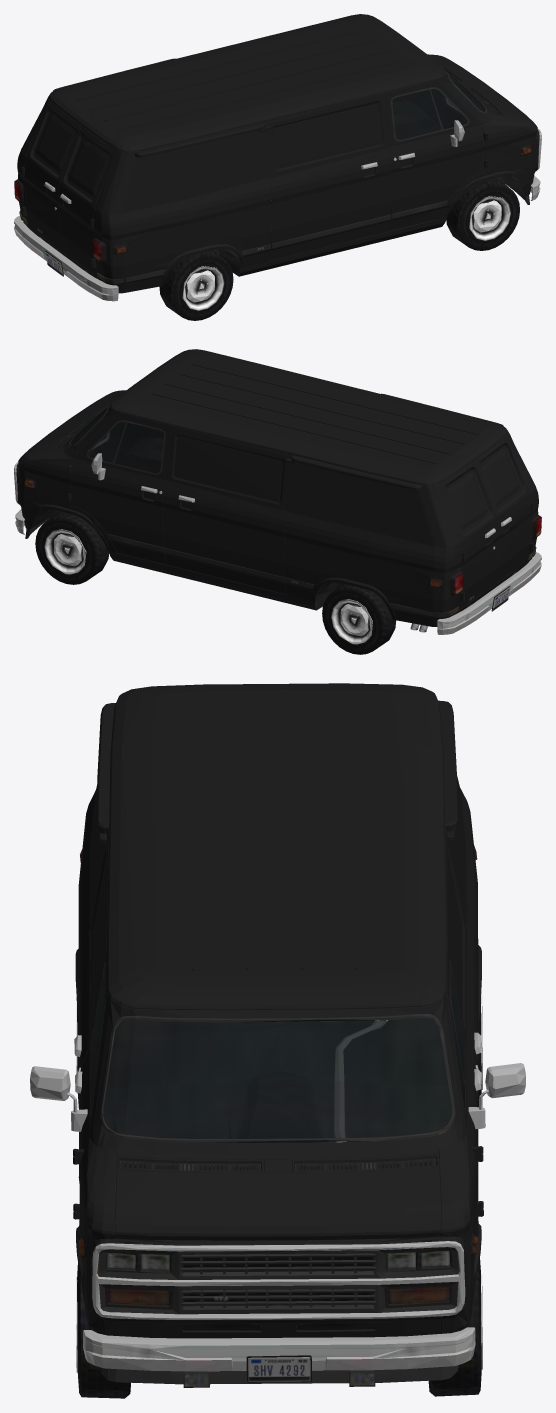
The model's file is van.glb.
3 views of the same model, one above another, from view 1: azimuth 30°, elevation 25°; view 2: azimuth 150°, elevation 25°; view 3: azimuth 270°, elevation 25° (orthographic). The views are drawn at different scales.
Visible parts, largest first — view 1: Shvan92_Body_Shvan92_bodymat_0, Shvan92_Bottom_UCB_BOTTOM_0, Shvan92_WheelStock_FR_RB1c_Tire_1k_0, Shvan92_WheelStock_RL_RB1c_Tire_1k_0, Shvan92_Bumper_rear_UCB_BOTTOM_0, Shvan92_Glass_Passanger_UCB_Lights_and_Glass_Transperent_0, Shvan92_Hood_Shvan92_bodymat_0, Shvan92_Body_glass_UCB_Lights_and_Glass_Transperent_0; view 2: Shvan92_Body_Shvan92_bodymat_0, Shvan92_Bottom_UCB_BOTTOM_0, Shvan92_WheelStock_FL_RB1c_Tire_1k_0, Shvan92_WheelStock_RL_RB1c_Tire_1k_0, Shvan92_Bumper_rear_UCB_BOTTOM_0, Shvan92_Glass_Driver_UCB_Lights_and_Glass_Transperent_0, Shvan92_Hood_Shvan92_bodymat_0, Shvan92_Body_glass_UCB_Lights_and_Glass_Transperent_0; view 3: Shvan92_Body_Shvan92_bodymat_0, Shvan92_Bottom_UCB_BOTTOM_0, Shvan92_Windshield_UCB_Lights_and_Glass_Transperent_0, Shvan92_Hood_Shvan92_bodymat_0, Shvan92_Bumper_front_UCB_BOTTOM_0, Shvan92_Headlights_Glass_UCB_Lights_and_Glass_Transperent_0, Shvan92_WheelStock_FL_RB1c_Tire_1k_0, Shvan92_WheelStock_FR_RB1c_Tire_1k_0, Shvan92_Blinkers_UCB_Lights_and_Glass_0, Shvan92_Headlights_UCB_Lights_and_Glass_0, Shvan92_Numberplate_front_Numberplates_Misk_U_0.
Part boxes in pixels (bbox=[...]): Shvan92_Body_Shvan92_bodymat_0: bbox=[16, 14, 539, 293]; Shvan92_Bottom_UCB_BOTTOM_0: bbox=[19, 54, 541, 283]; Shvan92_WheelStock_FR_RB1c_Tire_1k_0: bbox=[446, 178, 519, 250]; Shvan92_WheelStock_RL_RB1c_Tire_1k_0: bbox=[159, 250, 233, 320]; Shvan92_Bumper_rear_UCB_BOTTOM_0: bbox=[14, 216, 118, 301]; Shvan92_Glass_Passanger_UCB_Lights_and_Glass_Transperent_0: bbox=[392, 90, 441, 139]; Shvan92_Hood_Shvan92_bodymat_0: bbox=[430, 56, 532, 121]; Shvan92_Body_glass_UCB_Lights_and_Glass_Transperent_0: bbox=[430, 89, 467, 129]; Shvan92_Body_Shvan92_bodymat_0: bbox=[16, 349, 539, 626]; Shvan92_Bottom_UCB_BOTTOM_0: bbox=[14, 405, 536, 632]; Shvan92_WheelStock_FL_RB1c_Tire_1k_0: bbox=[35, 511, 109, 584]; Shvan92_WheelStock_RL_RB1c_Tire_1k_0: bbox=[322, 583, 396, 654]; Shvan92_Bumper_rear_UCB_BOTTOM_0: bbox=[437, 552, 541, 634]; Shvan92_Glass_Driver_UCB_Lights_and_Glass_Transperent_0: bbox=[114, 423, 163, 472]; Shvan92_Hood_Shvan92_bodymat_0: bbox=[23, 392, 123, 454]; Shvan92_Body_glass_UCB_Lights_and_Glass_Transperent_0: bbox=[88, 422, 125, 462]; Shvan92_Body_Shvan92_bodymat_0: bbox=[73, 683, 483, 1338]; Shvan92_Bottom_UCB_BOTTOM_0: bbox=[30, 845, 525, 1387]; Shvan92_Windshield_UCB_Lights_and_Glass_Transperent_0: bbox=[103, 1018, 452, 1138]; Shvan92_Hood_Shvan92_bodymat_0: bbox=[115, 1167, 440, 1245]; Shvan92_Bumper_front_UCB_BOTTOM_0: bbox=[83, 1327, 475, 1382]; Shvan92_Headlights_Glass_UCB_Lights_and_Glass_Transperent_0: bbox=[107, 1251, 450, 1305]; Shvan92_WheelStock_FL_RB1c_Tire_1k_0: bbox=[428, 1258, 482, 1396]; Shvan92_WheelStock_FR_RB1c_Tire_1k_0: bbox=[76, 1263, 130, 1398]; Shvan92_Blinkers_UCB_Lights_and_Glass_0: bbox=[109, 1287, 448, 1304]; Shvan92_Headlights_UCB_Lights_and_Glass_0: bbox=[107, 1251, 449, 1270]; Shvan92_Numberplate_front_Numberplates_Misk_U_0: bbox=[248, 1357, 310, 1381].
Bounding box in the file's own units: 4.9 × 1.93 × 2.35.
Materials: 7 (6 with a texture image).
